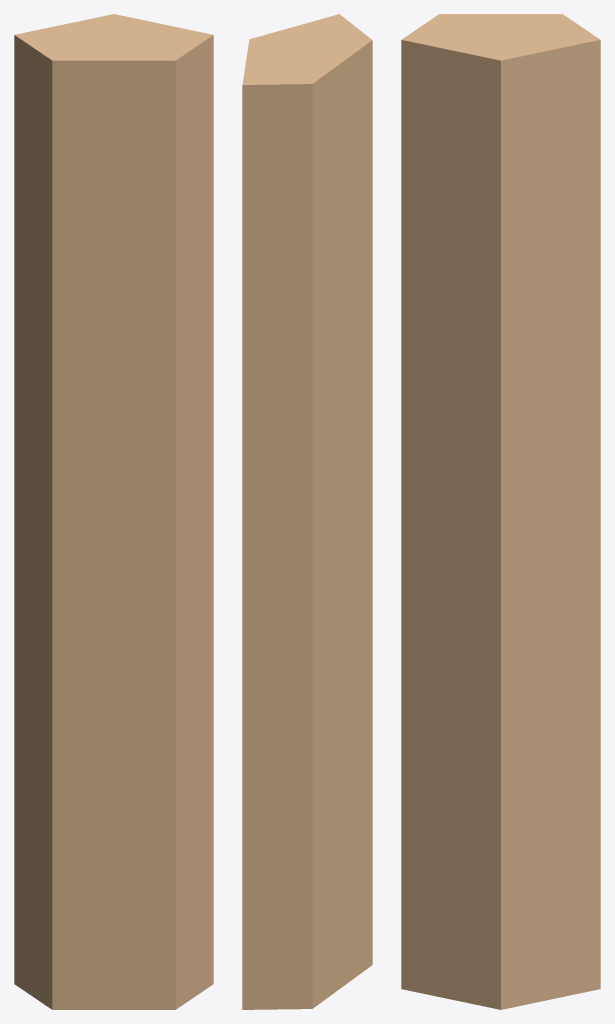
File: ZaunZw.fbx
3 views of the same model, side by side, from view 1: azimuth 90°, elevation 25°; view 2: azimuth 150°, elevation 25°; view 3: azimuth 270°, elevation 25° (orthographic). The views are drawn at different scales.
Visible parts, largest first — view 1: ZwischenPfahl; view 2: ZwischenPfahl; view 3: ZwischenPfahl.
Boxes of the visible parts, x1,y1,x2,y2 form: ZwischenPfahl: (14, 14, 213, 1009); ZwischenPfahl: (242, 14, 372, 1009); ZwischenPfahl: (401, 14, 600, 1009).
Bounding box in the file's own units: 10.55 × 100 × 19.02.
1 material, 1 textured.
